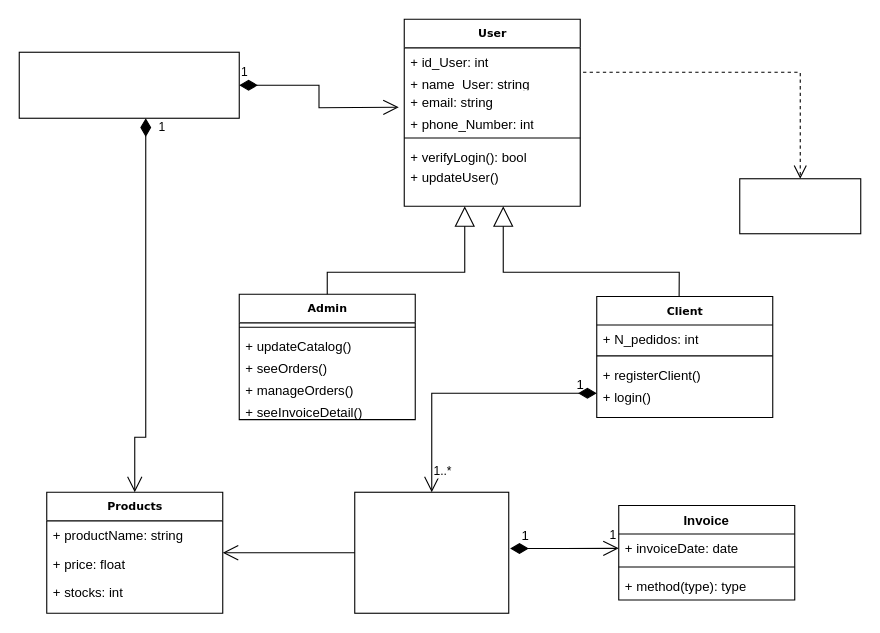
Image size: 880x633. Some labels were removed from this diagram. Here are the shapes that lost their labels. From the top down, the centre of each, then its label:
the point at 128,84: DataBase E-Commerce_Pets
the point at 800,206: «interface» Inicio.hmtl
the point at 431,552: Orders + totalPrice: float + deliveryDate: date + amountProduct: int
